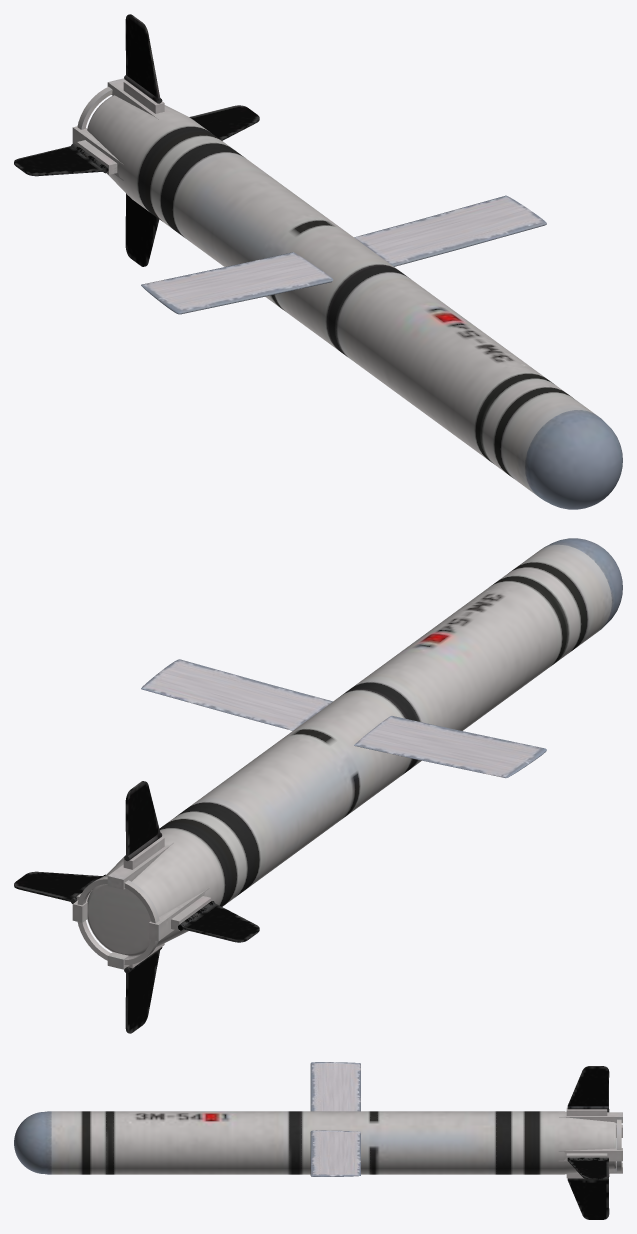
File: Kalibr.fbx
3 renders of one model, top to bottom at view 1: azimuth 30°, elevation 25°; view 2: azimuth 150°, elevation 25°; view 3: azimuth 270°, elevation 25°, orthographic. The views are drawn at different scales.
Visible parts, largest first — view 1: Kalibr_Low; view 2: Kalibr_Low; view 3: Kalibr_Low.
Part boxes in pixels (x1,y1,x2,y2): Kalibr_Low: [14, 14, 622, 509]; Kalibr_Low: [14, 538, 622, 1033]; Kalibr_Low: [14, 1062, 622, 1219].
Size of the model in its own units: 224 by 140 by 504.
